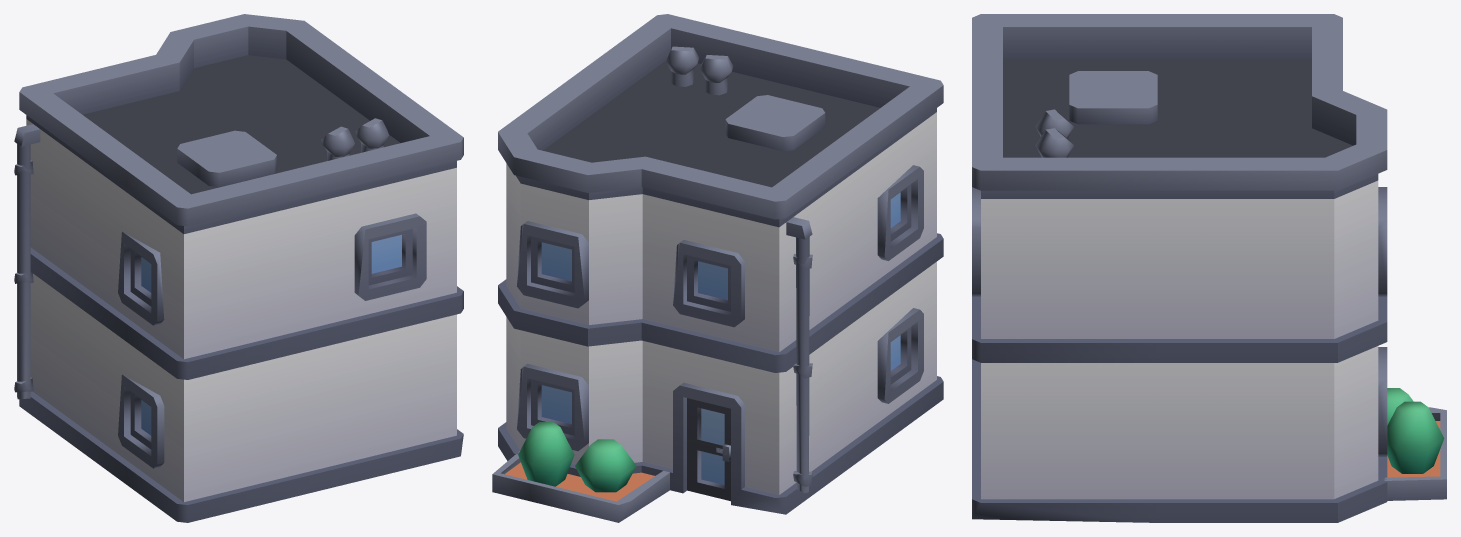
The model's file is 077_city-kit-commercial_building-c_card.glb.
The picture shows the model from 3 angles, left to right: view 1: azimuth 30°, elevation 25°; view 2: azimuth 150°, elevation 25°; view 3: azimuth 270°, elevation 25°; orthographic projection. The views are drawn at different scales.
Visible parts, largest first — view 1: building-c; view 2: building-c; view 3: building-c.
Part boxes in pixels (x1,y1,x2,y2): building-c: [14, 14, 463, 522]; building-c: [492, 14, 943, 522]; building-c: [972, 14, 1446, 522].
Size of the model in its own units: 0.8836 by 0.893 by 1.08.
1 material, 1 textured.
